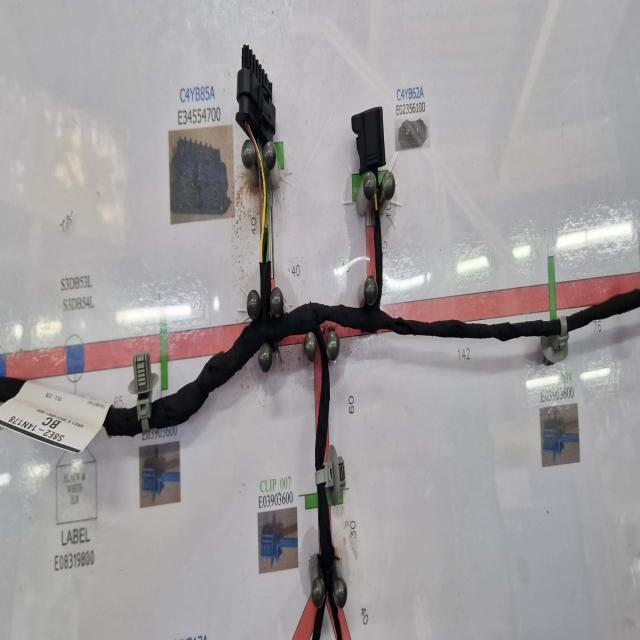Clip: (129, 352, 158, 433), (315, 444, 345, 504), (540, 316, 568, 365), (550, 305, 556, 322)
Connector: (236, 46, 276, 144), (351, 106, 386, 174)
Gape: (254, 136, 283, 264), (368, 171, 381, 215)
Info: (150, 209, 562, 472), (316, 480, 341, 640), (566, 289, 640, 333), (104, 406, 140, 436)
